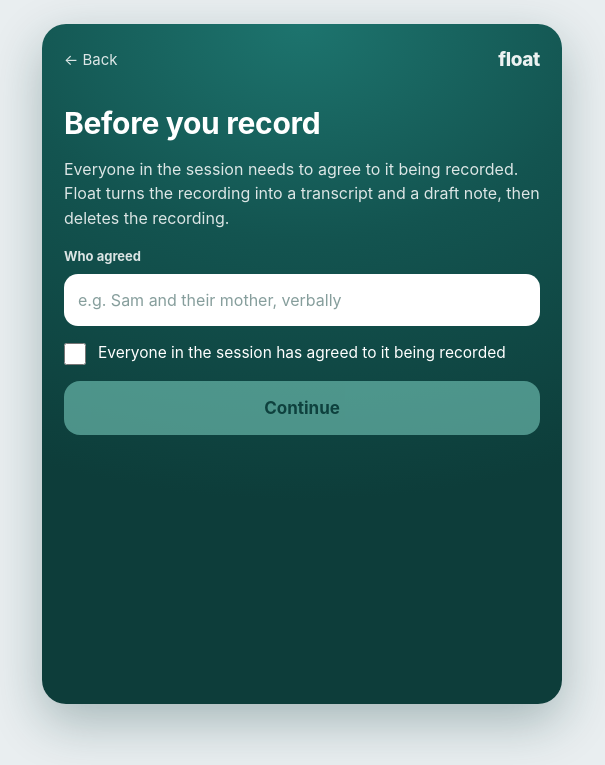
recording a session › asks for consent first, the first time for a patient
Expected: the heading "Before you record" is shown, [64,105,320,141]
Expected: the button "Continue" is disabled, [64,381,540,435]
Type "Sam and her mother, verbally" into the field labelled "Who agreed".
click(302, 300); type("Sam and her mother, verbally")  # box [64,274,540,326]
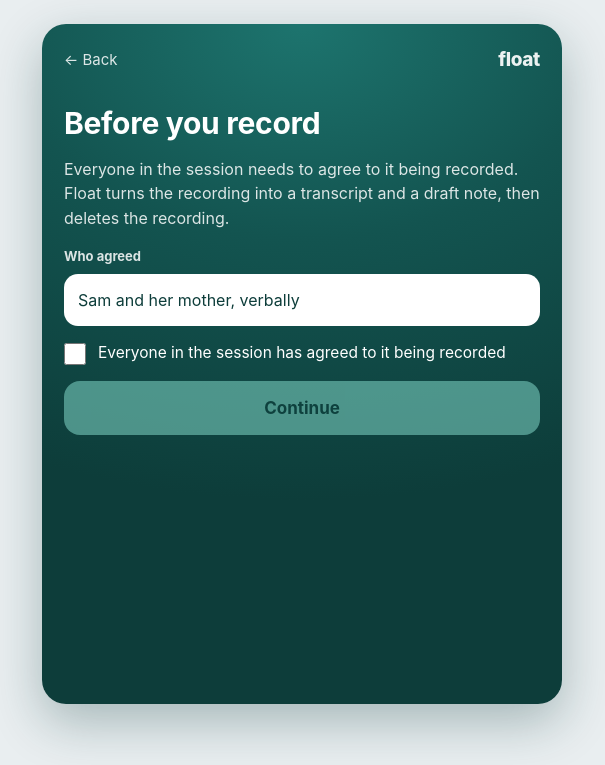
Expected: the button "Continue" is disabled, [64,381,540,435]
Click the checkbox labelled "Everyone in the session has agreed to it being recorded".
click(75, 354)  # box [64,343,86,365]
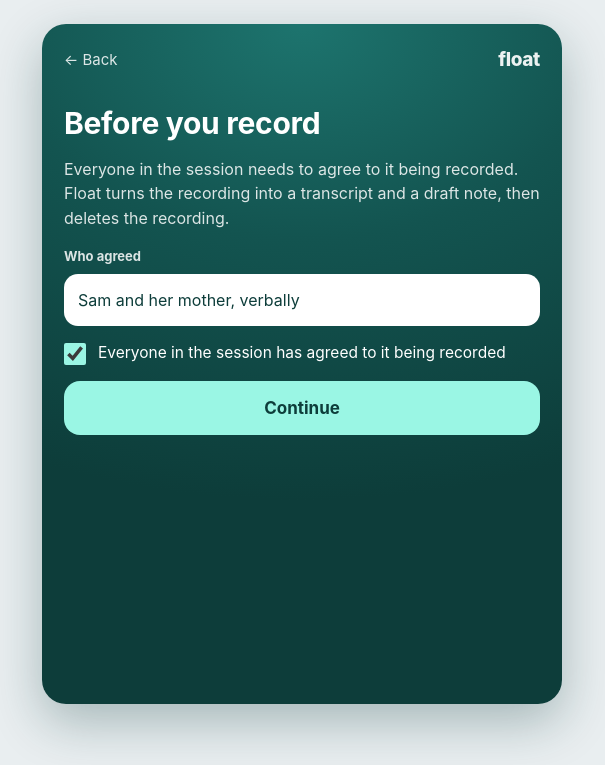
Click the button "Continue".
click(302, 408)  # box [64,381,540,435]
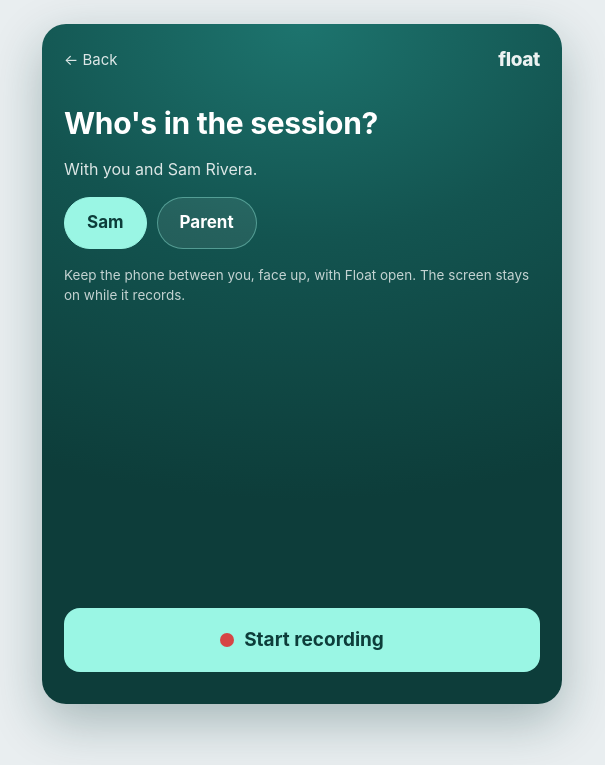
Now the heading "Who's in the session?" is shown, box [64,105,378,141]
